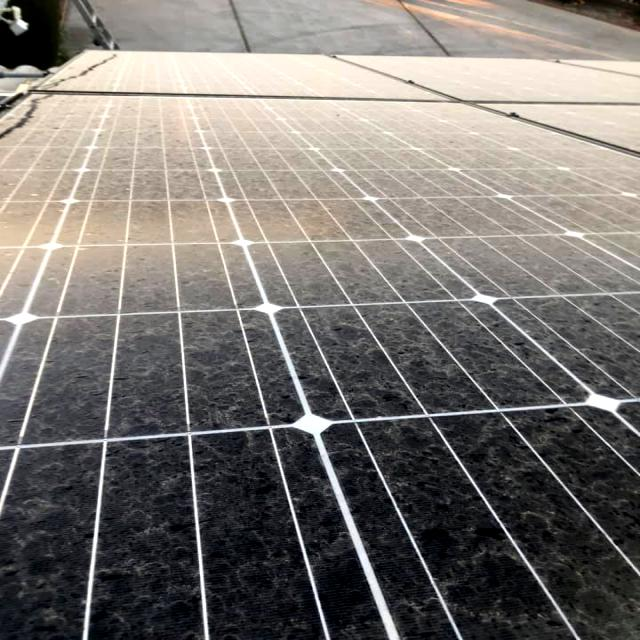dust: (327, 422, 640, 640), (0, 423, 311, 640), (9, 302, 310, 442), (342, 296, 628, 422), (291, 194, 640, 279), (5, 194, 275, 298), (280, 99, 536, 190), (32, 87, 255, 184), (87, 47, 355, 86)
